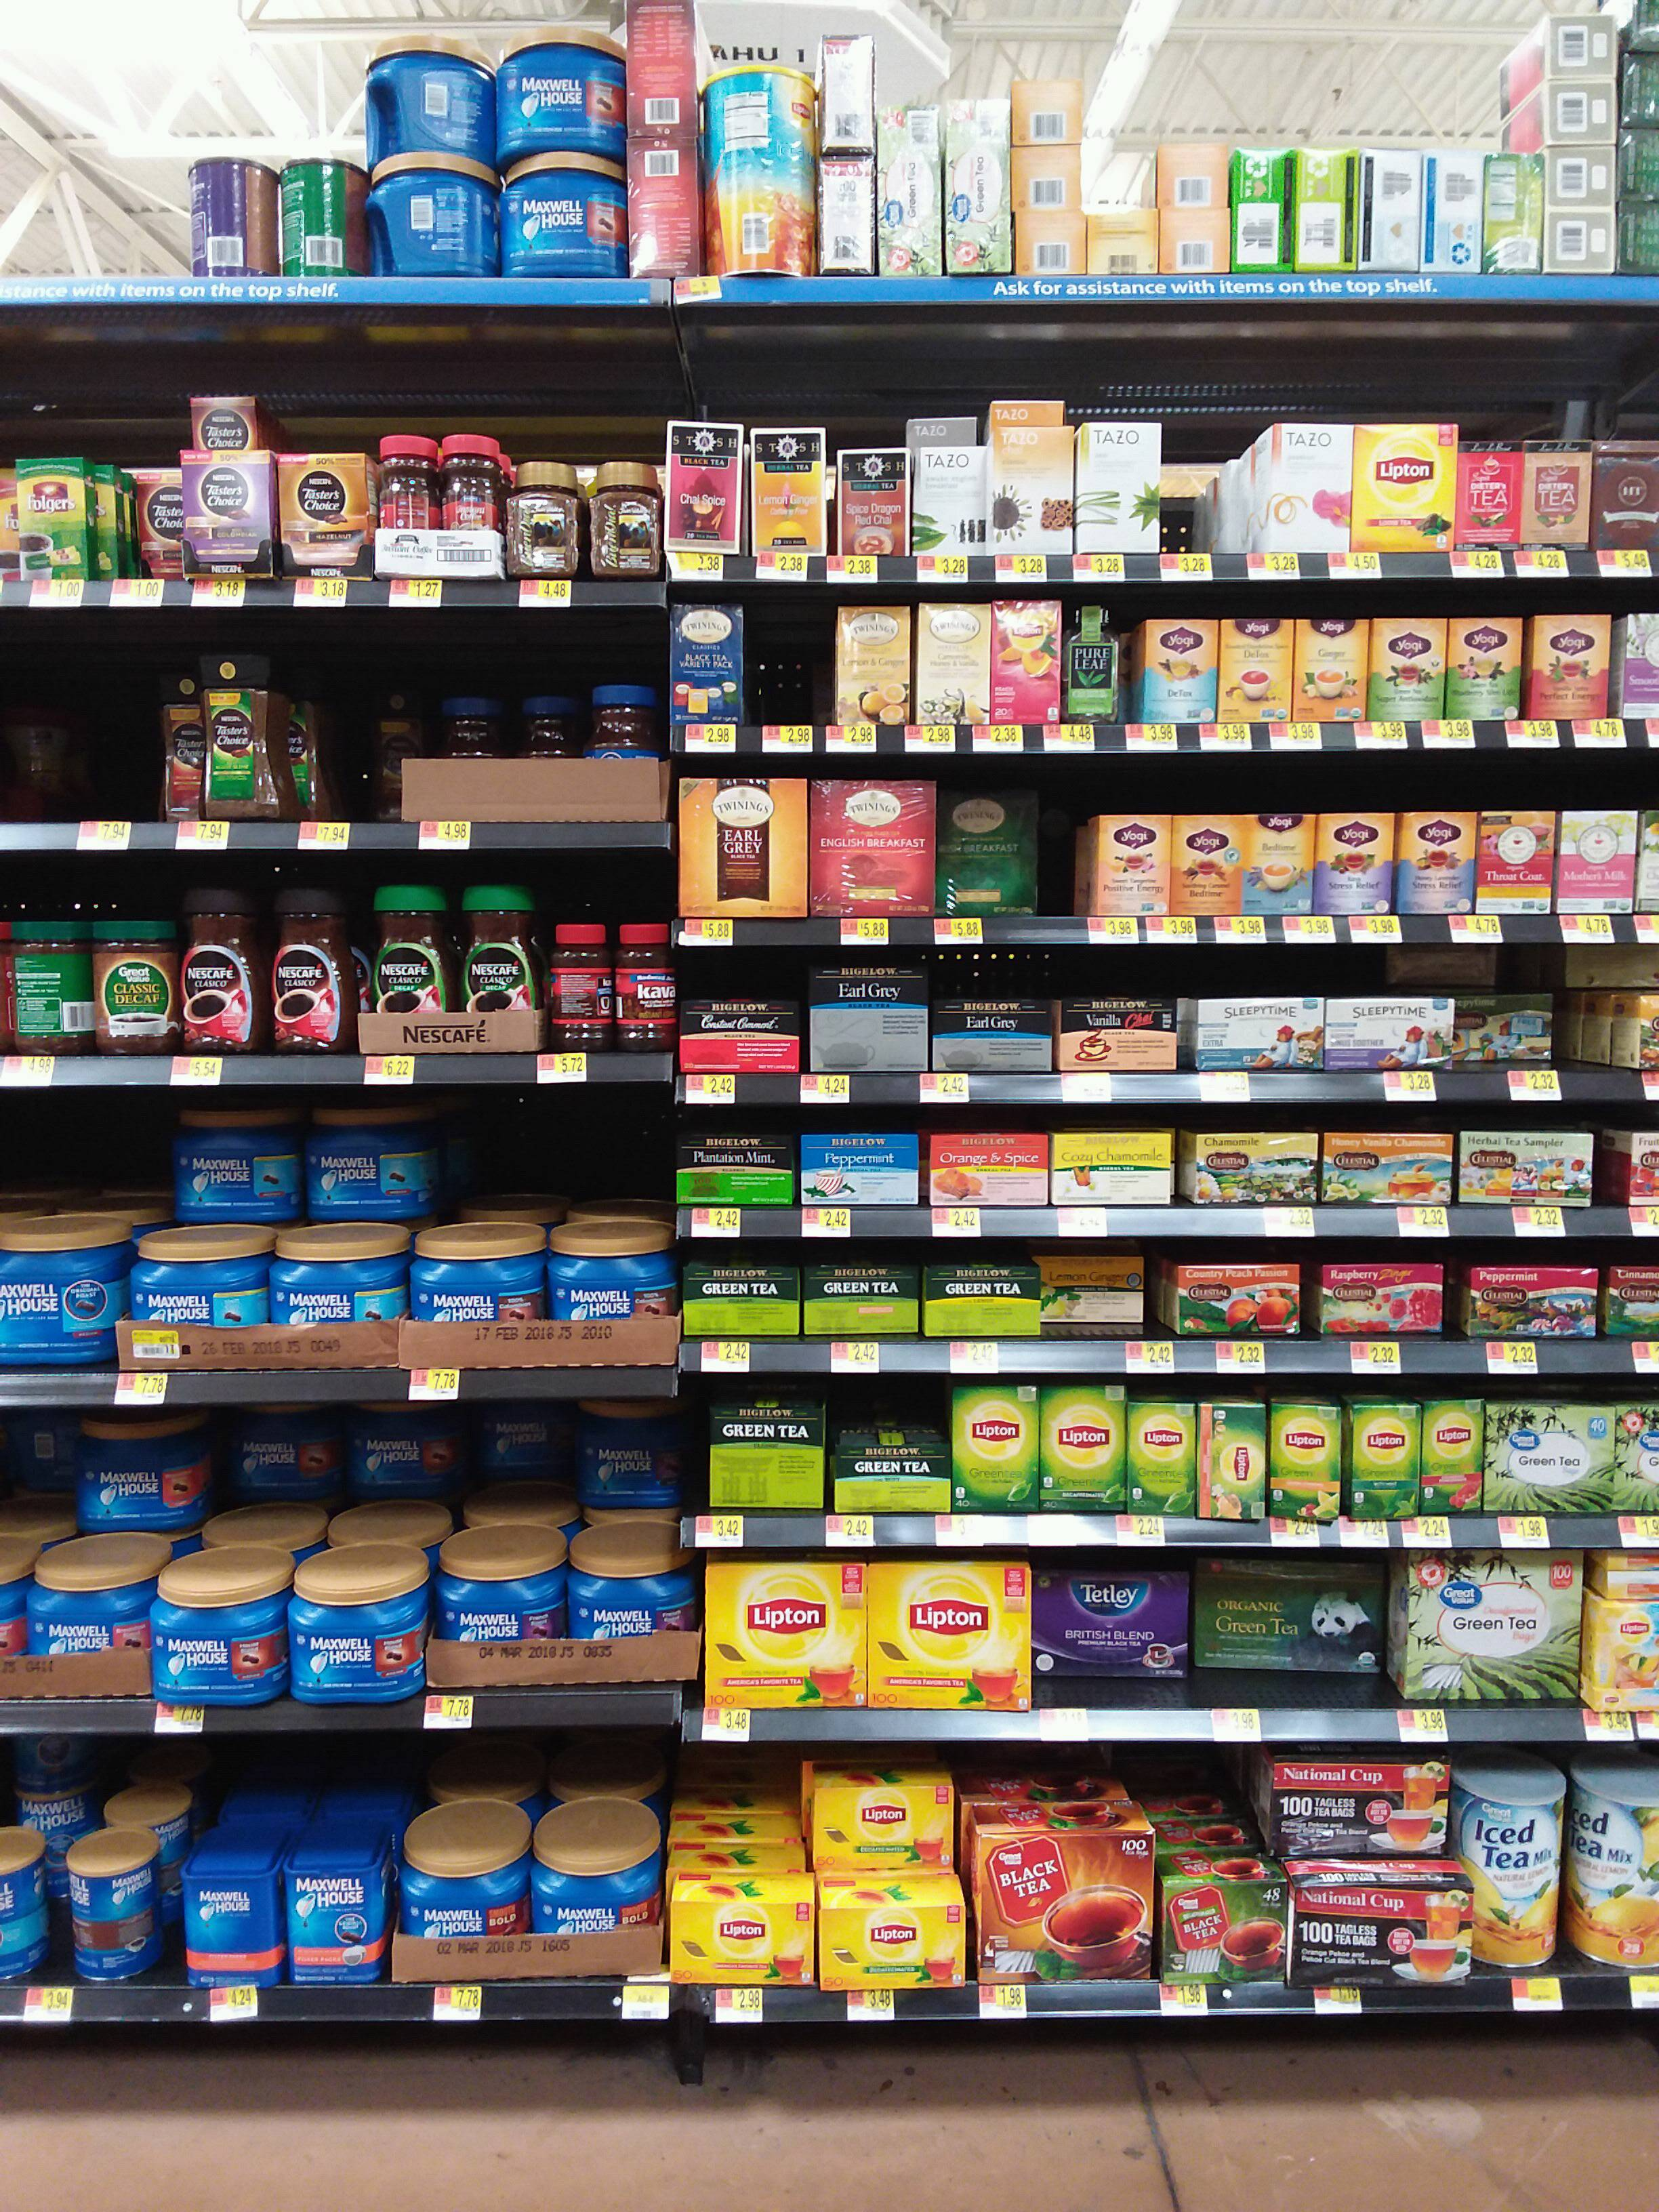Misplacement: (1030, 1571, 1192, 1710)
